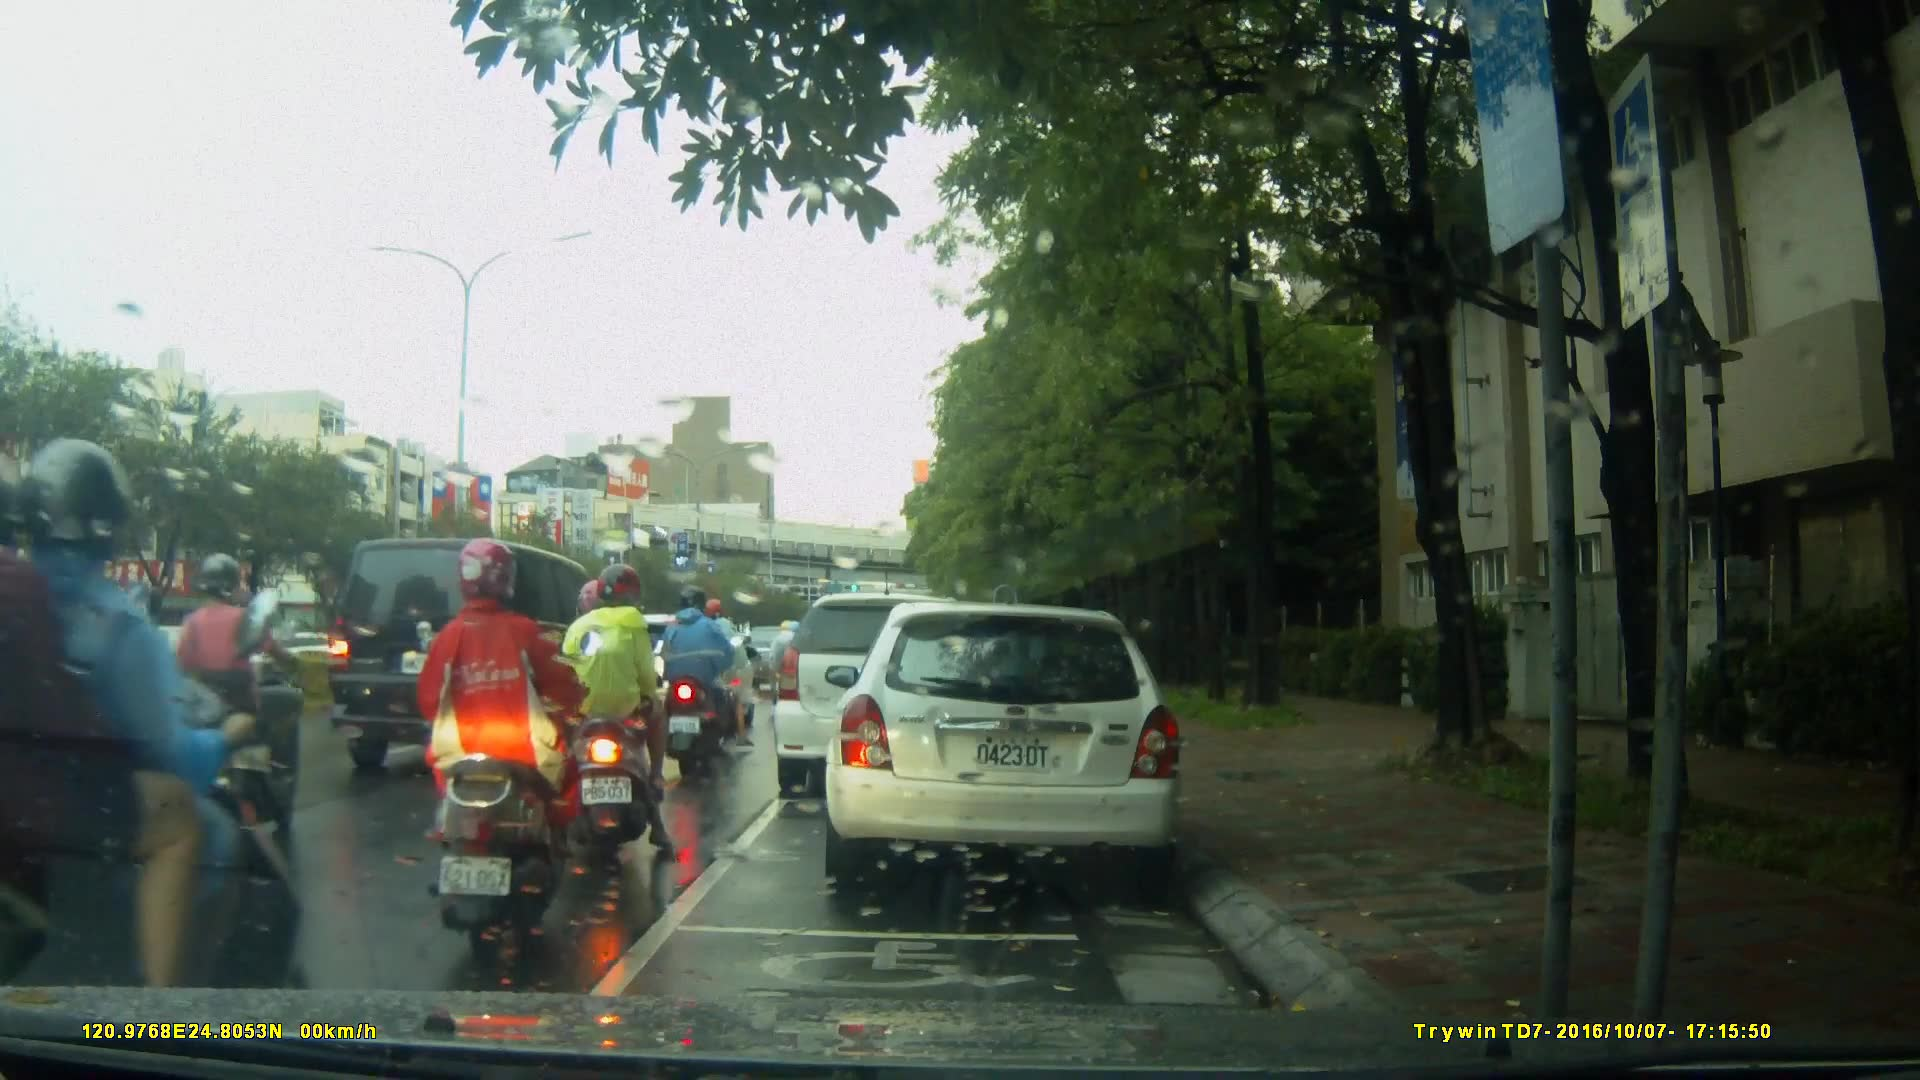rider: (1, 433, 316, 1063), (421, 534, 594, 957), (127, 551, 316, 844), (554, 561, 686, 862), (565, 592, 652, 829), (660, 589, 745, 770), (695, 598, 755, 746), (766, 612, 808, 714)
vehicle: (822, 604, 1188, 883), (323, 535, 637, 781), (774, 595, 995, 802), (573, 613, 758, 737)
